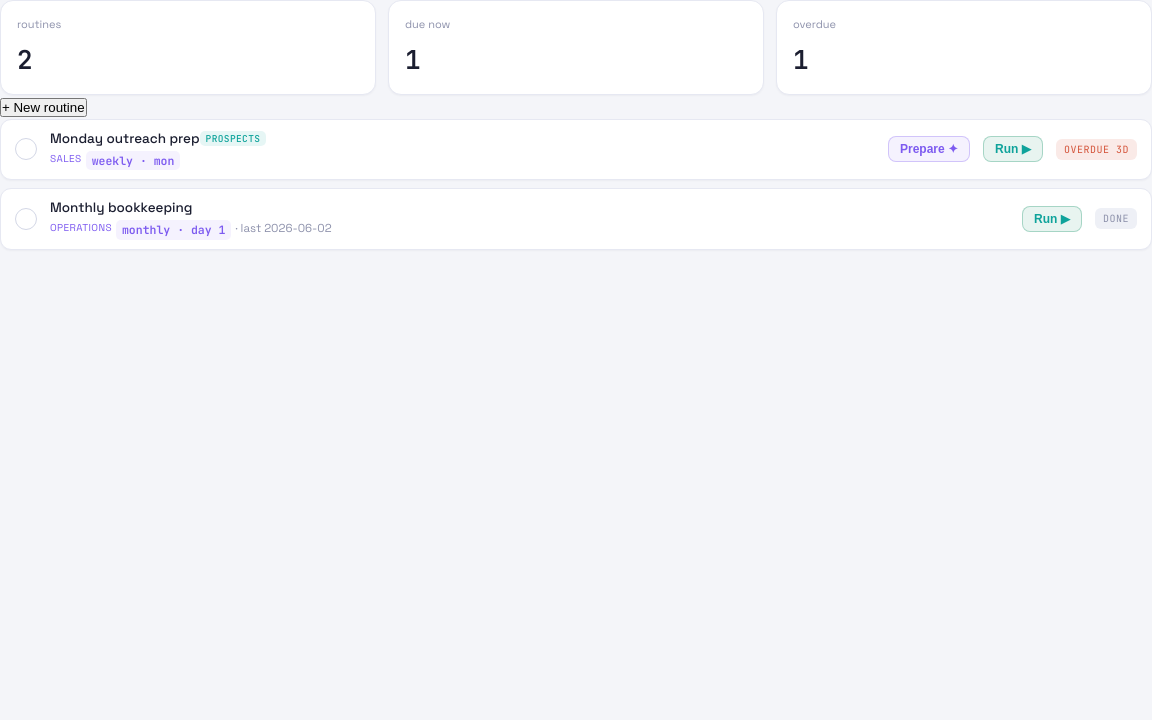
Test: Routines view › Run executes the routine and shows the narration (every routine, even not-due)
Expected: the text "Monthly bookkeeping" is shown, [50,199,192,216]
# r2 has prep "none" (no Prepare button) but Run is offered for every routine
Click the button "Run ▶" next to "done" at [1052, 219], box [1022,206,1082,232]
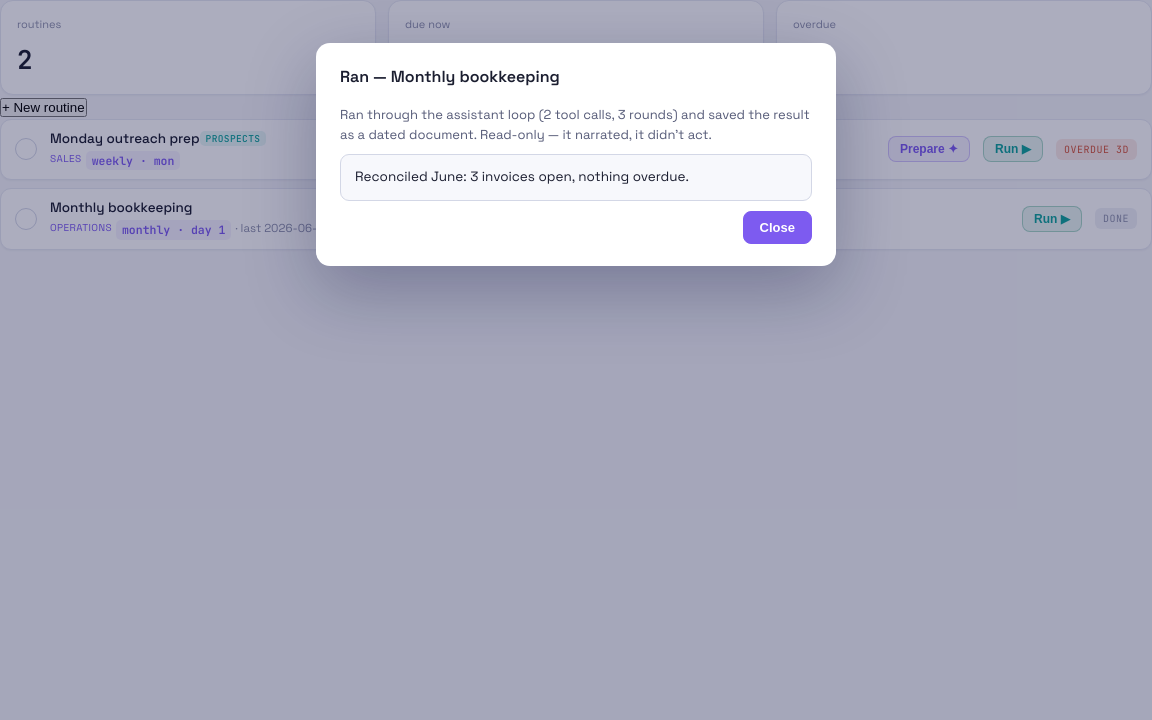
Result: the heading "Ran — Monthly bookkeeping" is shown at [340,66,560,87]
Result: the text "Reconciled June: 3 invoices open, nothing overdue." is shown at [340,154,812,201]
Result: the text "2 tool calls, 3 rounds" is shown at [340,105,812,144]
